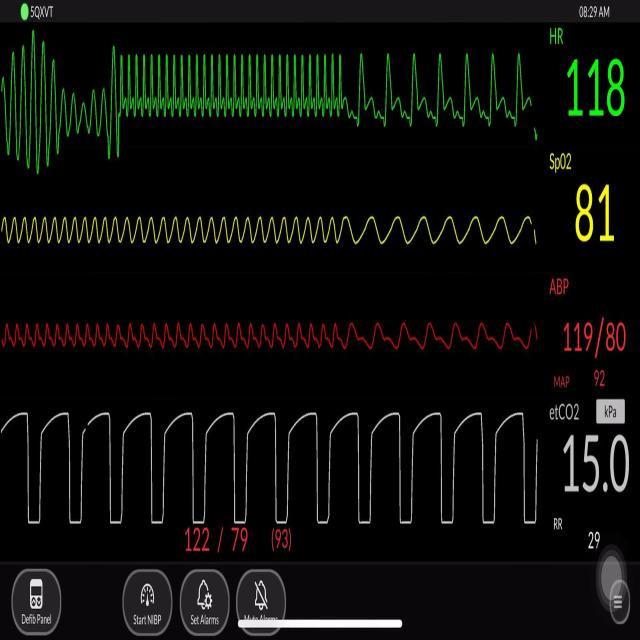danger: (113, 43, 345, 123), (7, 38, 109, 175)
